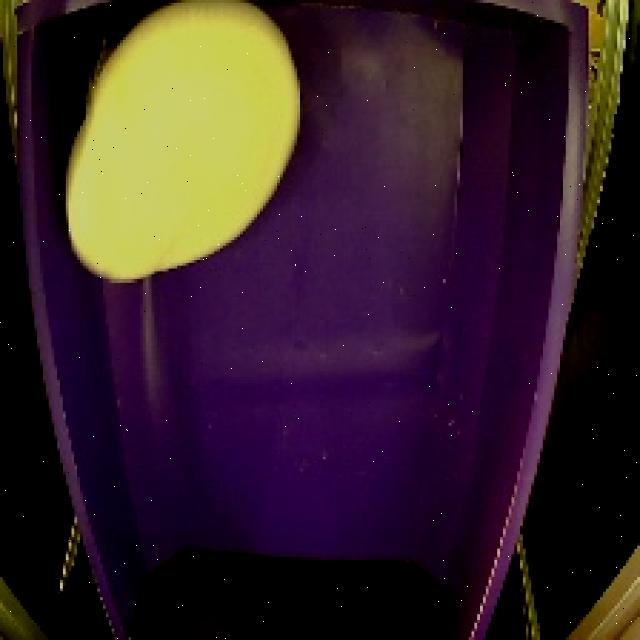white_radish: (60, 0, 305, 292)
